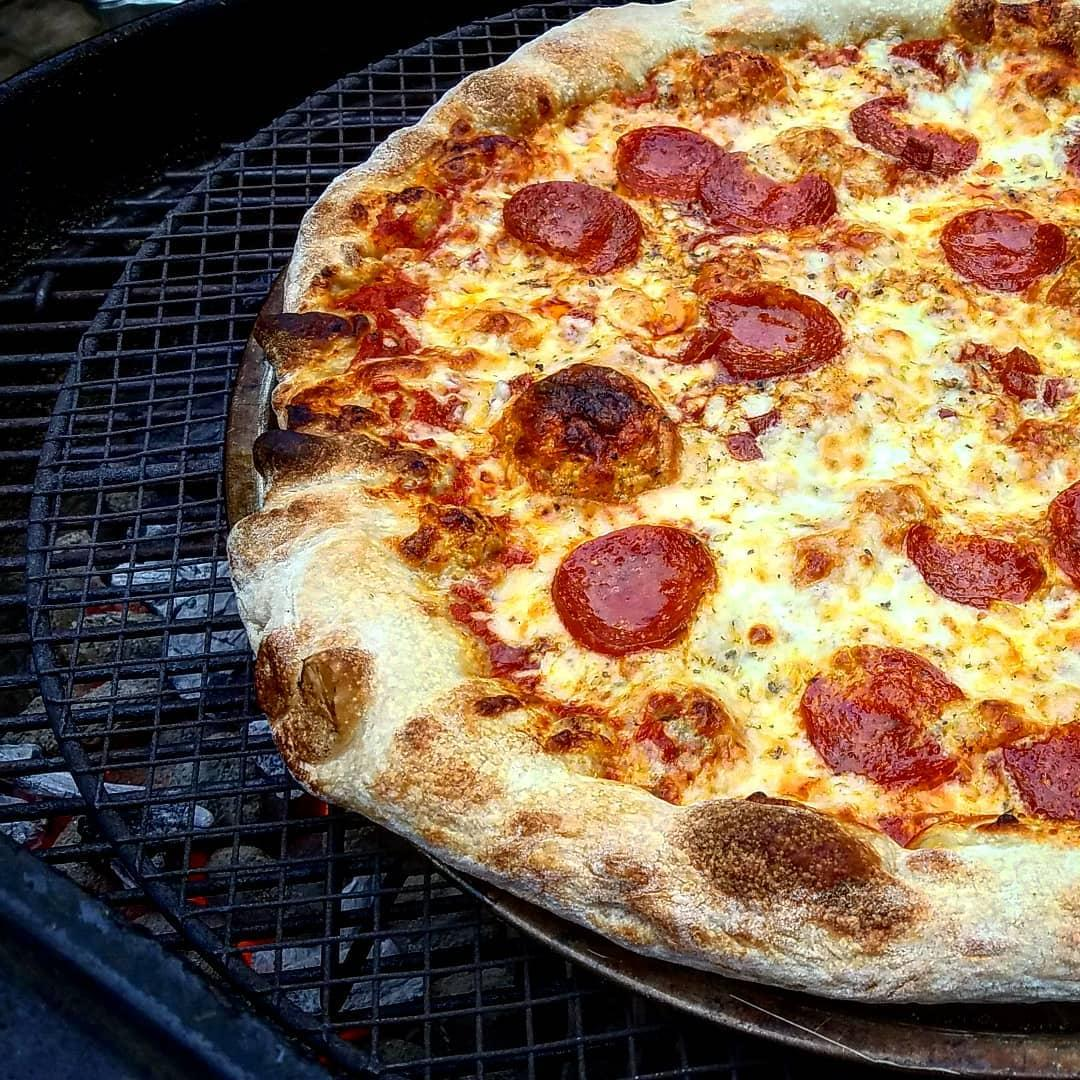Pepperoni: (797, 634, 994, 792), (494, 357, 690, 507), (547, 511, 723, 660), (487, 174, 652, 278), (698, 278, 854, 378), (695, 142, 842, 240), (937, 207, 1075, 304), (909, 511, 1043, 609), (607, 116, 731, 212), (847, 94, 980, 179), (1004, 709, 1080, 834), (868, 28, 968, 94), (1045, 466, 1080, 590)
Pizza: (237, 0, 1080, 1013)
